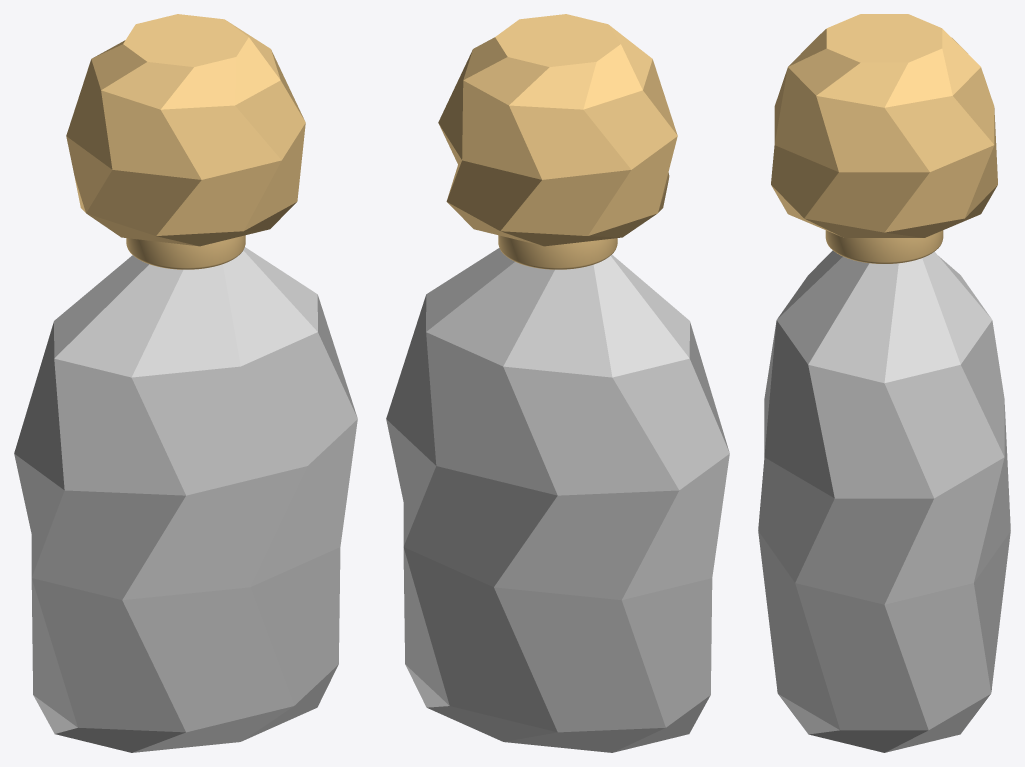
The model's file is luxury-celestine.glb.
The picture shows the model from 3 angles, left to right: view 1: azimuth 30°, elevation 25°; view 2: azimuth 150°, elevation 25°; view 3: azimuth 270°, elevation 25°; orthographic projection.
Parts seen in each view (by area): view 1: Glass_Body, Cap, Collar; view 2: Glass_Body, Cap, Collar; view 3: Glass_Body, Cap, Collar.
Part boxes in pixels (x1,y1,x2,y2): Glass_Body: (14, 247, 357, 752); Cap: (66, 14, 305, 246); Collar: (126, 235, 245, 269); Glass_Body: (386, 248, 729, 752); Cap: (438, 14, 677, 246); Collar: (498, 235, 617, 269); Glass_Body: (758, 250, 1010, 752); Cap: (771, 14, 997, 237); Collar: (825, 230, 943, 263).
Size of the model in its own units: 0.0628 by 0.1285 by 0.0452.
